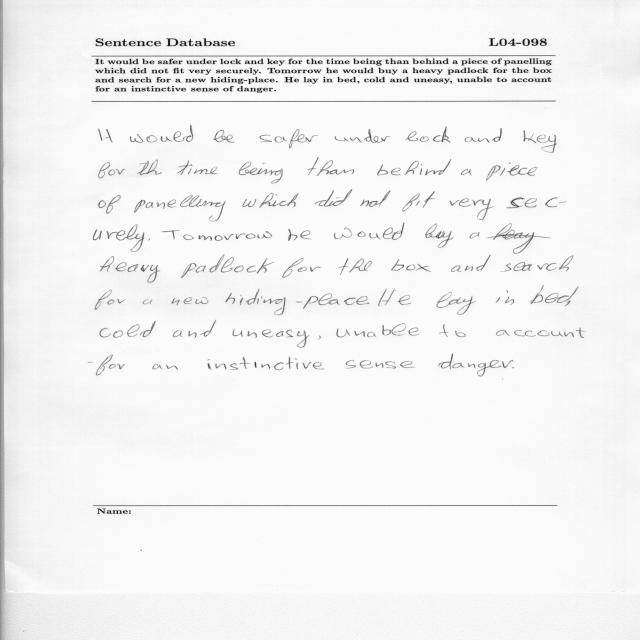word: (226, 289, 370, 315), (470, 223, 551, 254), (134, 195, 226, 221), (181, 255, 274, 278), (439, 354, 514, 376), (208, 357, 324, 371), (100, 256, 160, 283), (233, 329, 310, 348), (94, 224, 145, 252), (501, 255, 574, 272), (161, 230, 272, 241), (334, 223, 405, 240), (377, 159, 451, 175), (337, 324, 420, 338), (130, 125, 193, 143), (260, 129, 319, 148), (449, 198, 494, 220), (239, 162, 283, 184), (100, 321, 156, 338), (486, 163, 536, 181), (437, 292, 476, 315), (307, 157, 354, 176), (496, 328, 584, 338), (531, 286, 579, 304), (242, 193, 299, 208), (335, 129, 391, 143), (405, 126, 451, 143), (524, 130, 558, 153), (282, 258, 321, 278), (89, 355, 126, 376), (173, 320, 216, 338), (425, 224, 454, 248), (451, 255, 491, 272), (315, 189, 352, 207), (402, 192, 435, 212), (507, 197, 567, 208), (95, 290, 126, 310), (177, 160, 218, 175), (339, 258, 372, 275), (464, 128, 502, 142), (391, 259, 431, 272), (360, 190, 390, 207), (383, 290, 412, 306), (99, 162, 126, 179), (99, 195, 121, 214), (345, 360, 397, 368), (137, 159, 162, 175), (439, 325, 466, 338), (172, 297, 209, 305), (288, 229, 311, 241), (214, 130, 235, 143), (496, 290, 514, 305), (99, 129, 113, 143), (378, 289, 387, 307), (152, 364, 178, 370), (400, 361, 414, 368), (461, 169, 471, 175), (143, 299, 153, 304), (565, 301, 571, 307), (318, 336, 321, 340), (148, 239, 150, 241), (512, 367, 514, 368)
